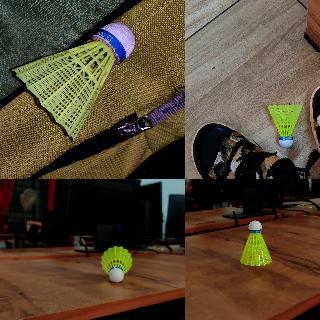shuttlecock: (10, 22, 142, 136), (265, 104, 303, 146), (240, 220, 272, 266), (100, 245, 132, 282)
